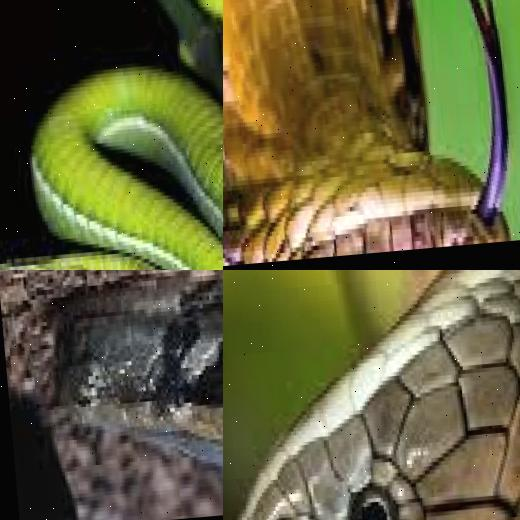4: (0, 0, 223, 270)
5: (223, 0, 520, 270), (223, 270, 520, 520)
snake: (33, 270, 223, 520)
